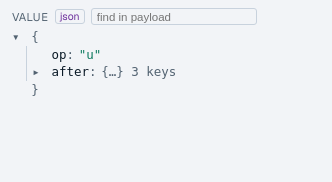
Test: JsonTree › expands a closed node when its summary is clicked
Click the button "{…} 3 keys" at (139, 72), box left=101, top=64, right=176, bottom=79
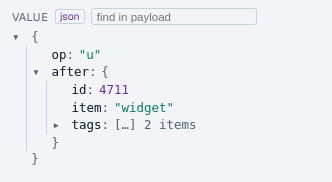
Now the text "widget" is shown, box left=114, top=100, right=174, bottom=114
